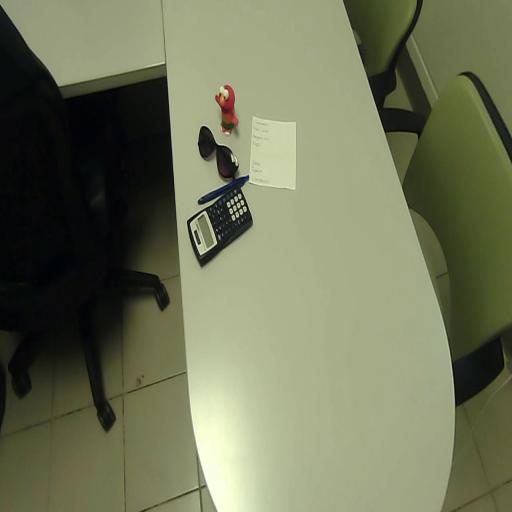pen: (198, 178, 248, 203)
